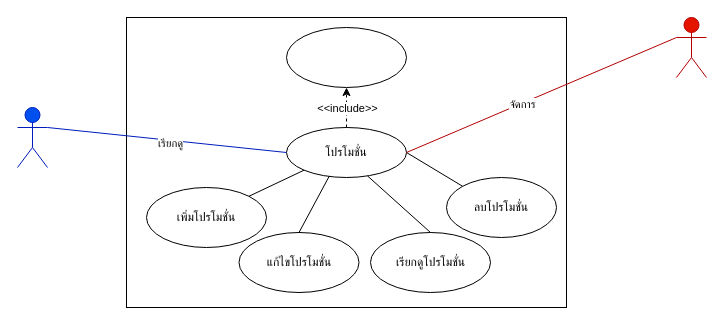
This 726x325 diagram has some shape labels left out. Here are the shapes that lost their labels. From the top down, the centre of each, then its label:
(346,57): เข้าสู่ระบบ
(691,47): ผู้จัดการ
(32,137): ลูกค้า
